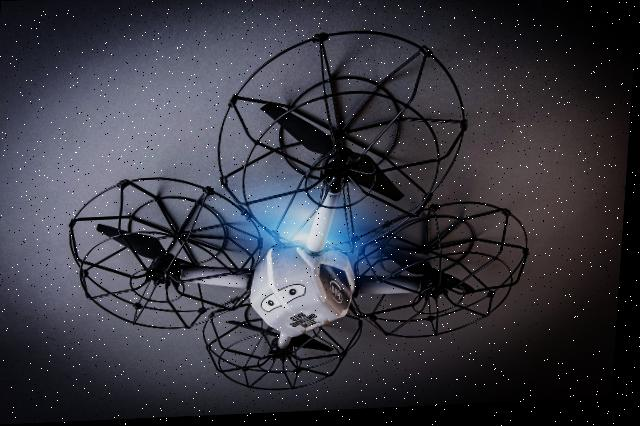drone: (0, 23, 638, 411)
